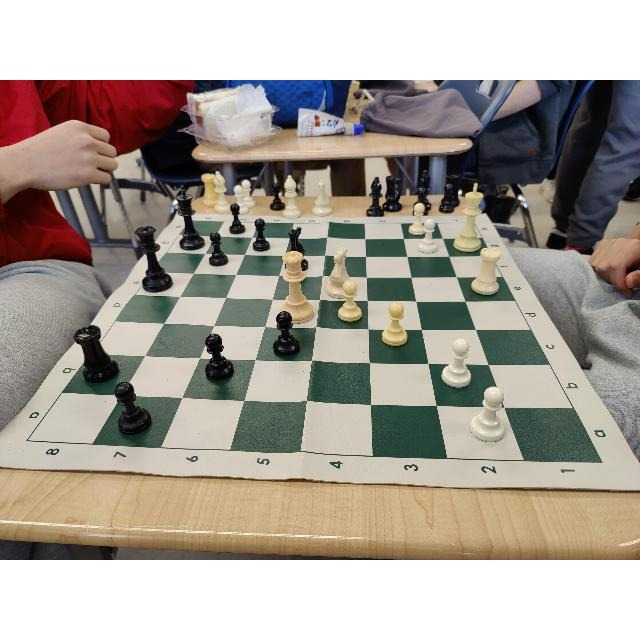black-king: (176, 186, 206, 250)
black-knight: (285, 227, 308, 271)
black-pawn: (113, 382, 152, 434), (205, 333, 233, 381), (272, 312, 300, 356), (208, 232, 228, 266), (252, 219, 270, 251), (229, 205, 244, 235)
black-queen: (135, 226, 172, 292)
black-rook: (74, 324, 120, 382)
white-king: (453, 184, 483, 252)
white-knight: (325, 247, 351, 299)
white-pawn: (470, 387, 506, 443), (440, 340, 471, 388), (382, 302, 408, 346), (337, 279, 362, 323), (418, 218, 438, 253), (409, 203, 425, 234)
white-queen: (282, 252, 314, 324)
white-rook: (471, 247, 501, 295)
